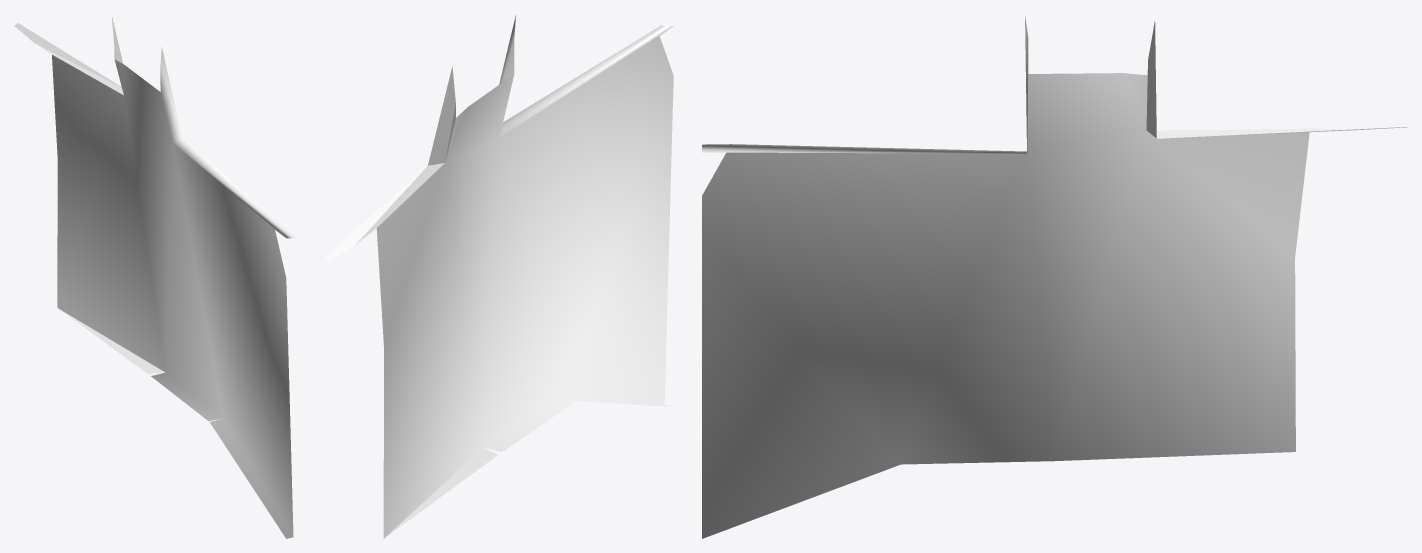
3 views of the same model, side by side, from view 1: azimuth 30°, elevation 25°; view 2: azimuth 150°, elevation 25°; view 3: azimuth 270°, elevation 25° (orthographic). The views are drawn at different scales.
Size of the model in its own units: 0.0605 by 1.09 by 1.33.
Materials: 1 (1 with a texture image).
